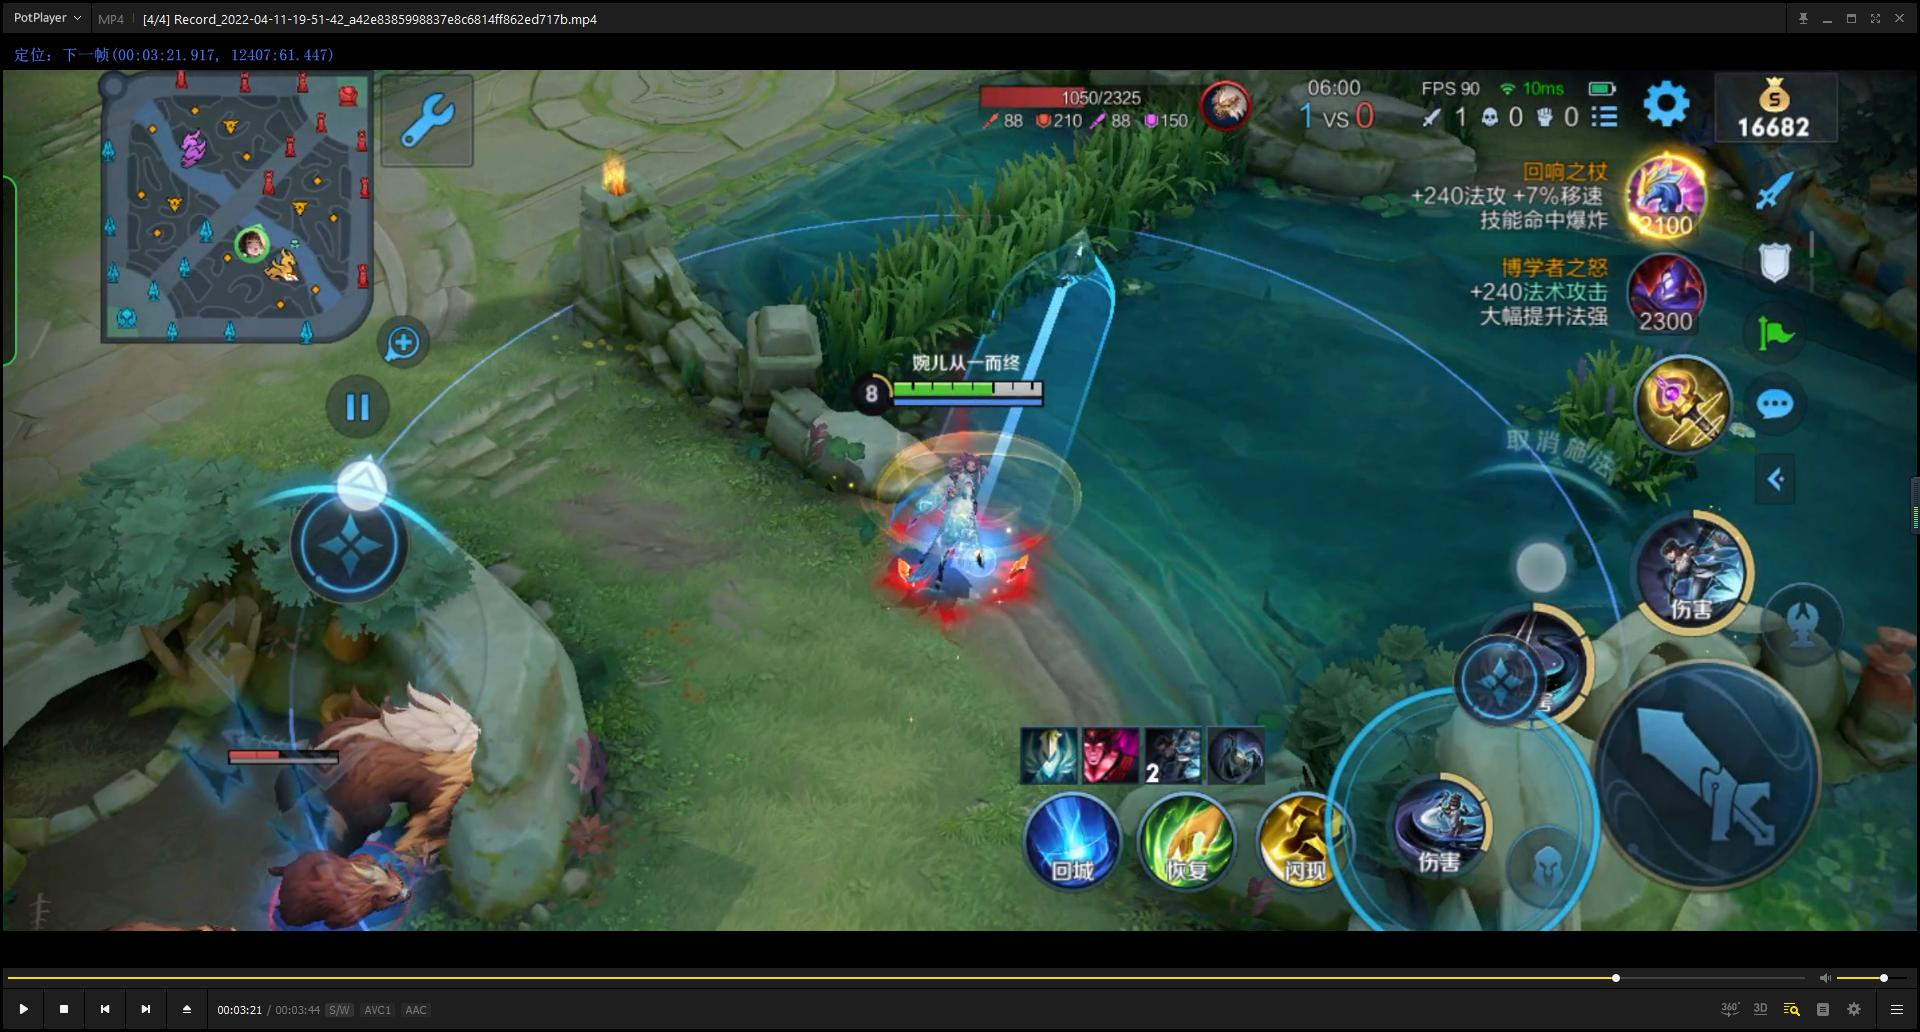Hero: (875, 427, 1118, 674)
Pig: (253, 688, 522, 859), (183, 825, 427, 927)
